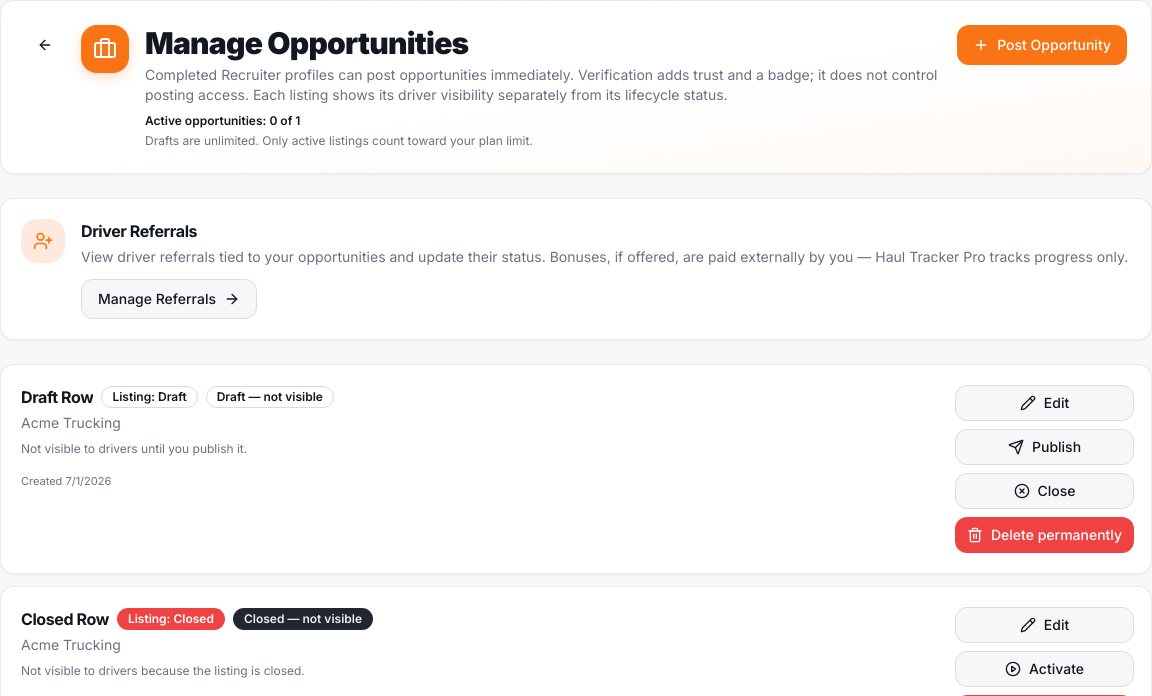
Scenario: Phase 1L-F2D — confirmation dialog › cancel closes and does not call the deletion RPC
Expected: the element with test id "opportunity-row-opp-draft" is shown, [0, 364, 1151, 574]
Click the button with test id "delete-opportunity-opp-draft".
click(1044, 535)  # box [955, 517, 1134, 553]
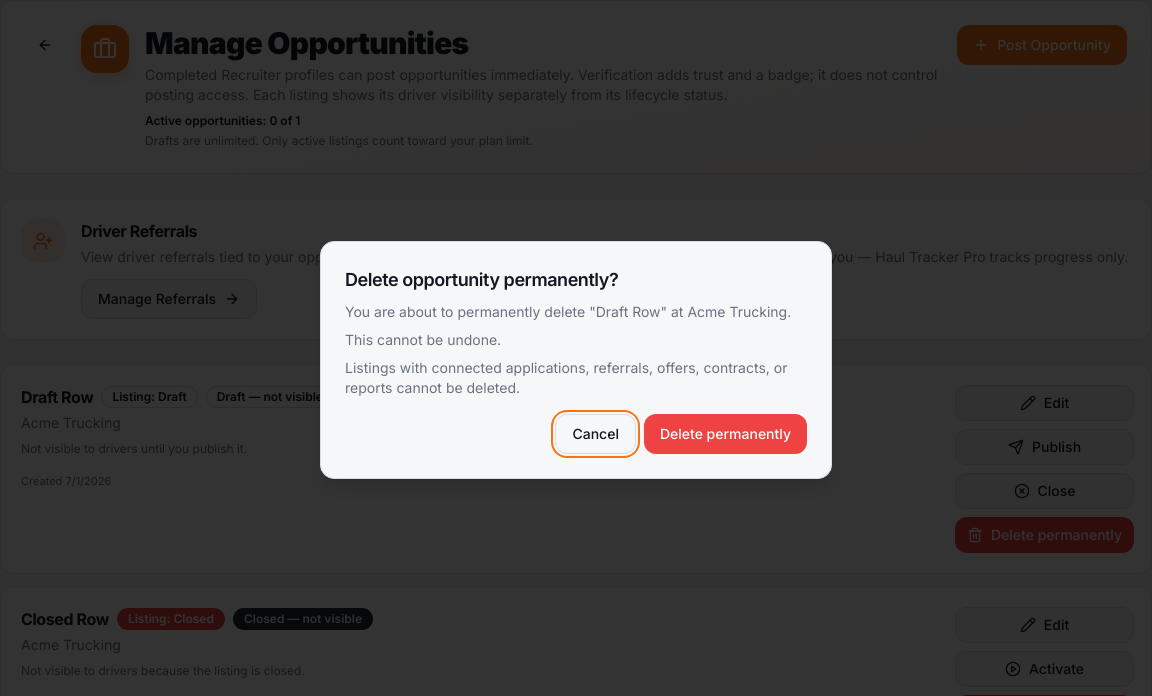
Click the button "Cancel".
click(596, 434)  # box [556, 414, 636, 454]
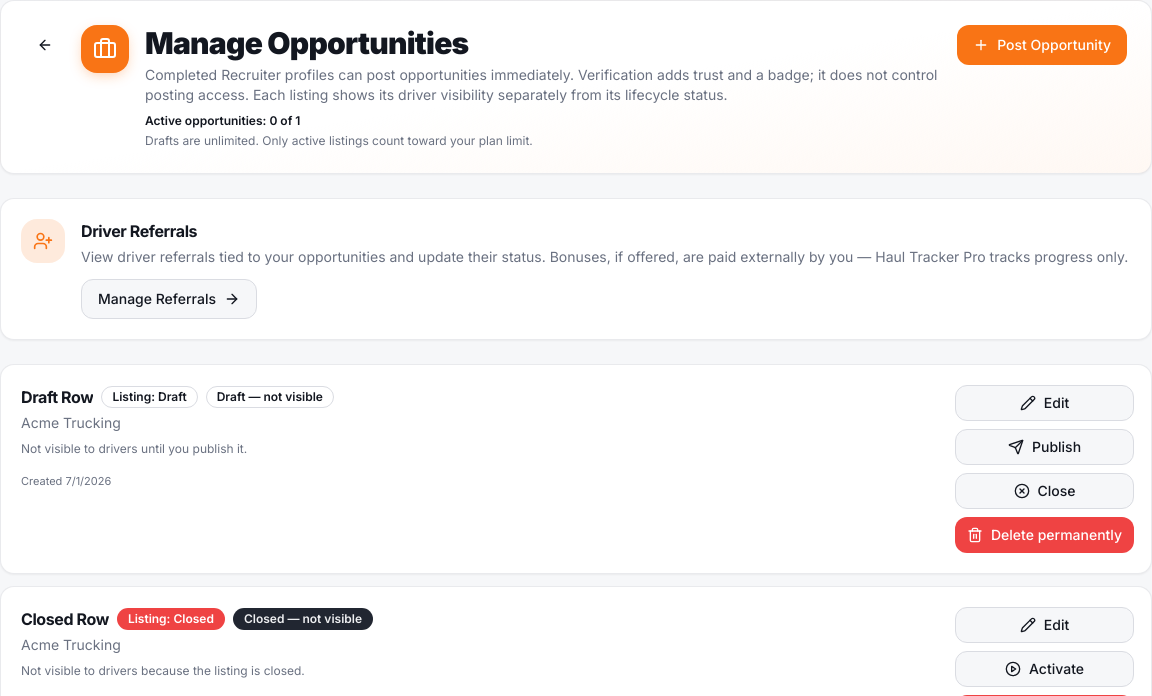
Result: the dialog is gone
